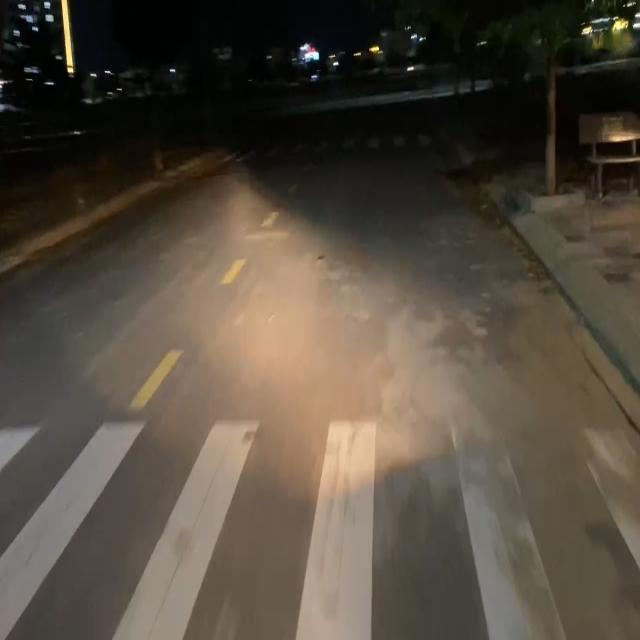walk-crossing: (2, 410, 640, 640)
